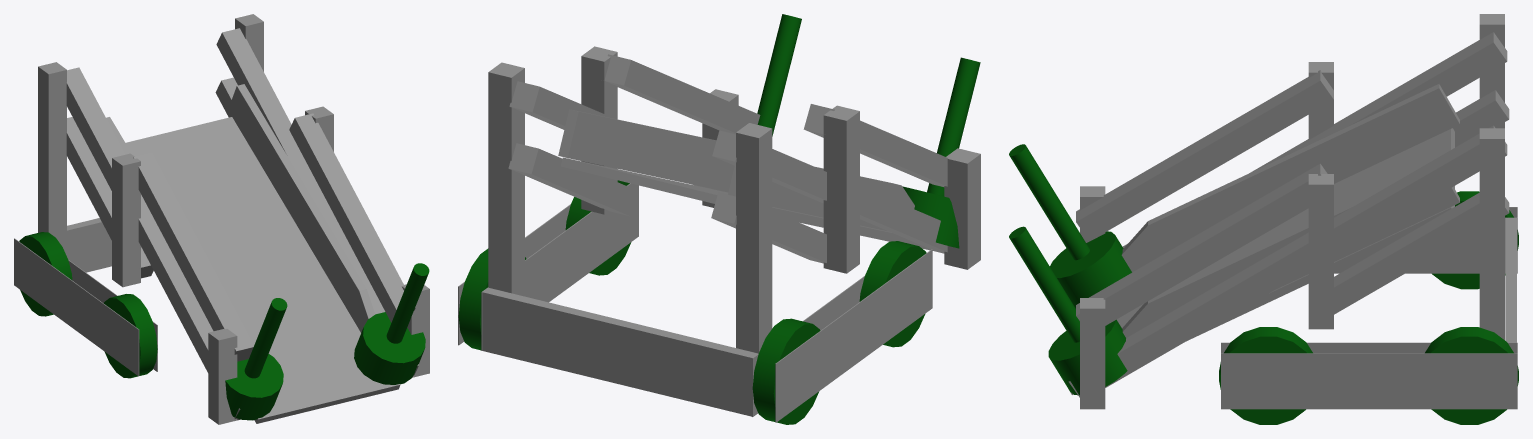
The model's file is turoller_new.FBX.
3 views of the same model, side by side, from view 1: azimuth 30°, elevation 25°; view 2: azimuth 150°, elevation 25°; view 3: azimuth 270°, elevation 25° (orthographic). The views are drawn at different scales.
Parts seen in each view (by area): view 1: Box012, Box021, armR1, armL3, armR3, Box004, armL1, Box007, Box018, Cylinder006, Cylinder005, armR2 (+11 smaller); view 2: Box002, Box004, Box007, Box021, Box006, Box005, Box018, armR1, armL3, armL2, Box019, armR3 (+15 smaller); view 3: Box003, Box022, armL1, armR3, armL3, Box012, armL2, Box021, Box006, armR1, Box017, Cylinder005 (+14 smaller).
Boxes of the visible parts, box(x1,y1,x2,y2) form: Box012: box(126, 117, 400, 423); Box021: box(228, 84, 375, 332); armR1: box(66, 67, 240, 420); armL3: box(289, 113, 415, 322); armR3: box(133, 152, 253, 361); Box004: box(14, 238, 139, 376); armL1: box(216, 28, 418, 375); Box007: box(38, 62, 66, 255); Box018: box(112, 153, 140, 287); Cylinder006: box(354, 312, 425, 384); Cylinder005: box(225, 354, 283, 420); armR2: box(66, 117, 153, 278); Box002: box(482, 288, 758, 416); Box004: box(775, 249, 932, 422); Box007: box(736, 123, 772, 353); Box021: box(558, 109, 734, 191); Box006: box(488, 62, 524, 296); Box005: box(481, 183, 638, 350); Box018: box(823, 105, 859, 273); armR1: box(712, 130, 947, 253); armL3: box(604, 54, 760, 134); armL2: box(508, 143, 637, 216); Box019: box(944, 148, 980, 269); armR3: box(803, 104, 947, 186); Box003: box(1221, 353, 1517, 409); Box022: box(1121, 84, 1459, 272); armL1: box(1068, 125, 1507, 397); armR3: box(1076, 70, 1333, 241); armL3: box(1076, 163, 1327, 325); Box012: box(1069, 128, 1454, 394); armL2: box(1334, 192, 1509, 314); Box021: box(1122, 184, 1459, 337); Box006: box(1479, 128, 1504, 339); armR1: box(1123, 32, 1507, 248); Box017: box(1308, 174, 1333, 329); Cylinder005: box(1050, 231, 1131, 308).
Bounding box in the file's own units: 0.3571 × 0.3146 × 0.5237.
